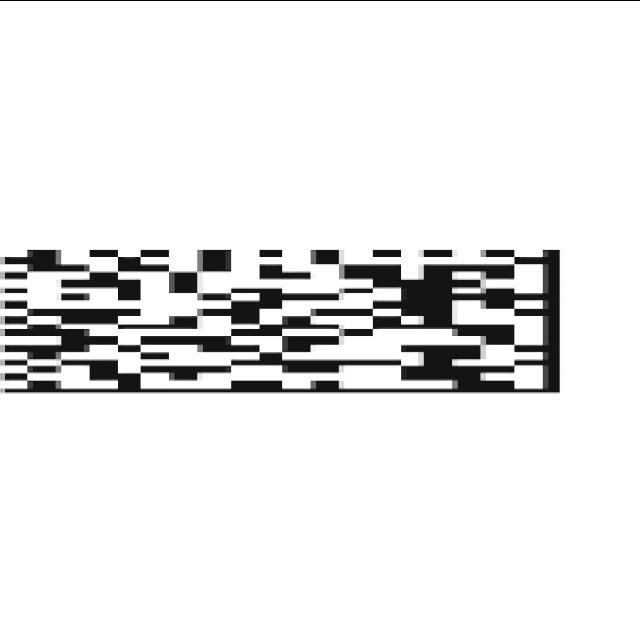DataMatrix: (5, 236, 578, 404)
